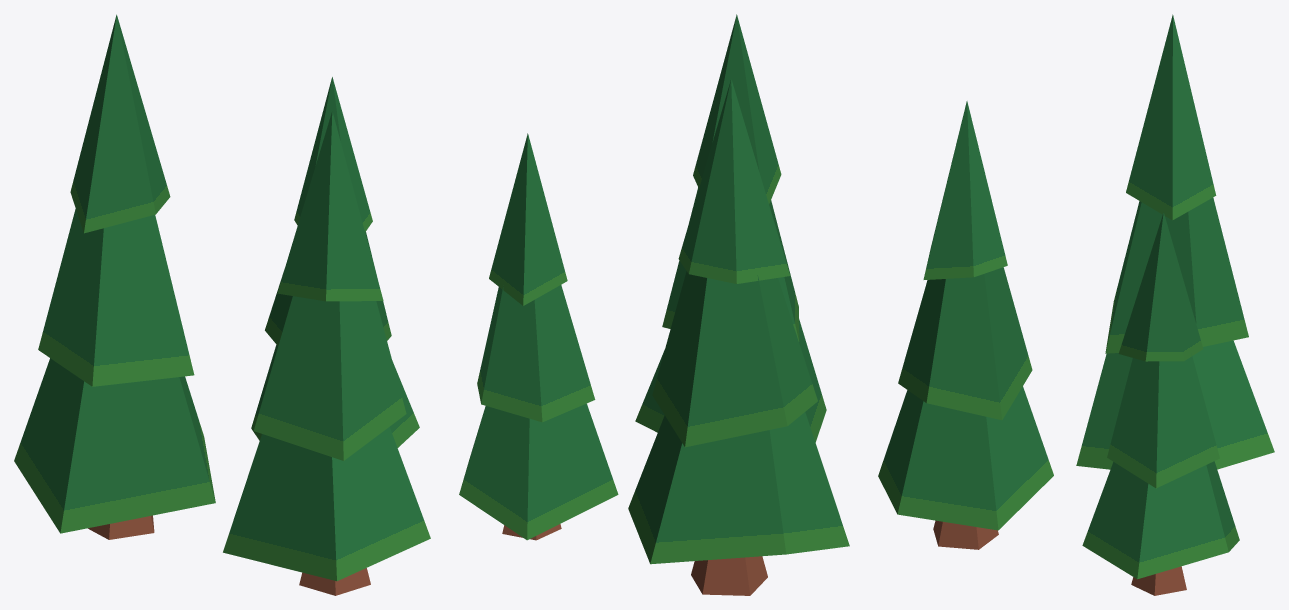
File: Trees.fbx
The picture shows the model from 3 angles, left to right: view 1: azimuth 30°, elevation 25°; view 2: azimuth 150°, elevation 25°; view 3: azimuth 270°, elevation 25°; orthographic projection. The views are drawn at different scales.
Parts seen in each view (by area): view 1: Tree_00; view 2: Tree_00; view 3: Tree_00.
Part boxes in pixels (left/top/right/bottom): Tree_00: left=14, top=14, right=430, bottom=595; Tree_00: left=459, top=14, right=849, bottom=595; Tree_00: left=878, top=14, right=1274, bottom=595.
Size of the model in its own units: 80.32 by 105 by 79.69.
